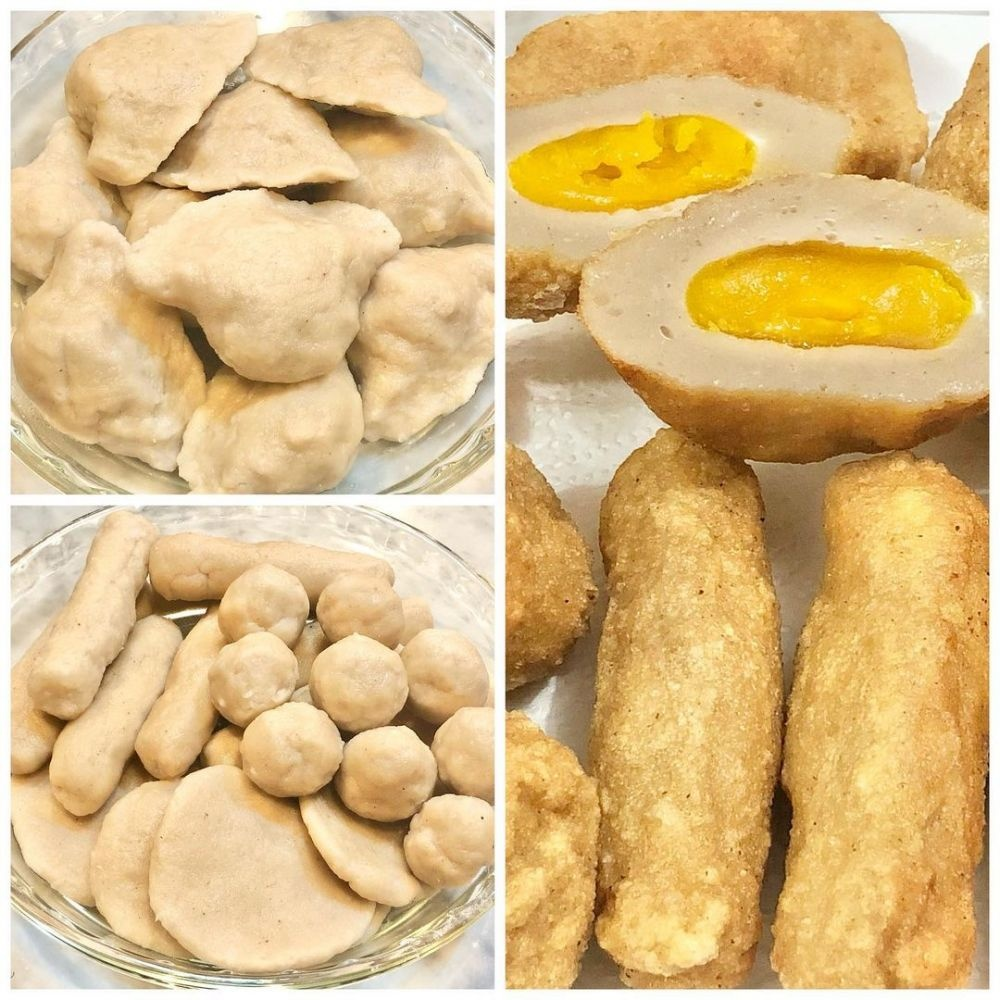pempek: (505, 13, 988, 992), (12, 7, 492, 493), (14, 506, 494, 968)
